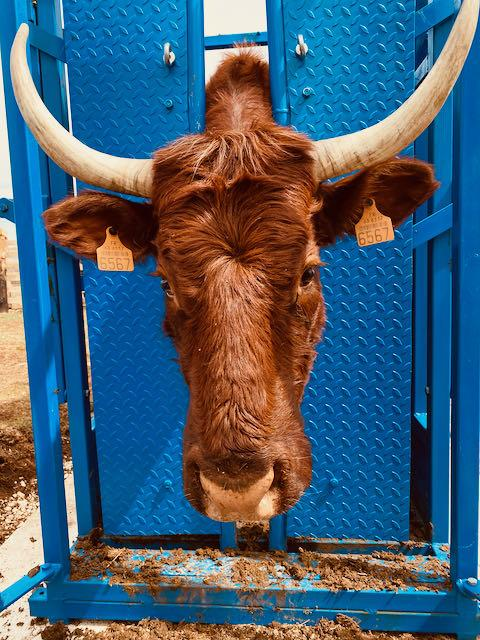muzzles: (176, 453, 310, 531)
